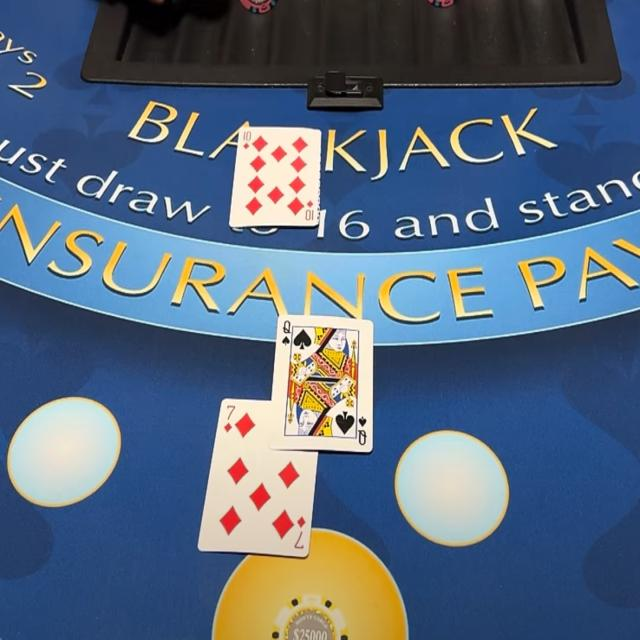10: (240, 130, 252, 142)
7: (225, 403, 236, 421)
Q: (281, 318, 292, 335)
